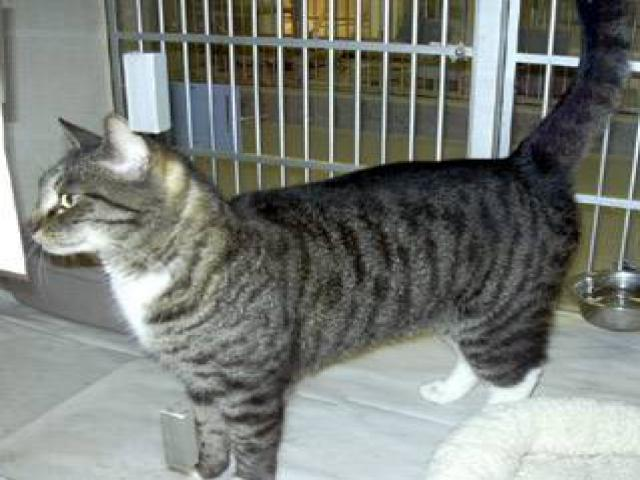cat: (21, 28, 635, 475)
